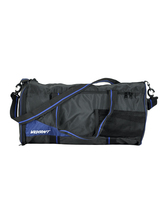bag: (7, 77, 159, 149)
